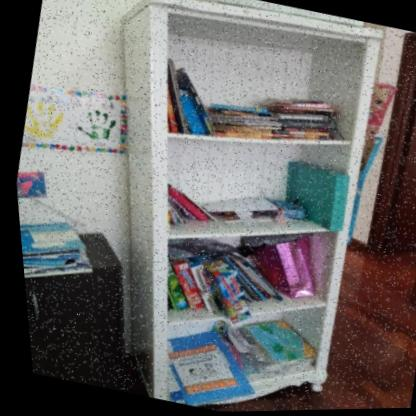Shelf: (17, 0, 416, 416)
